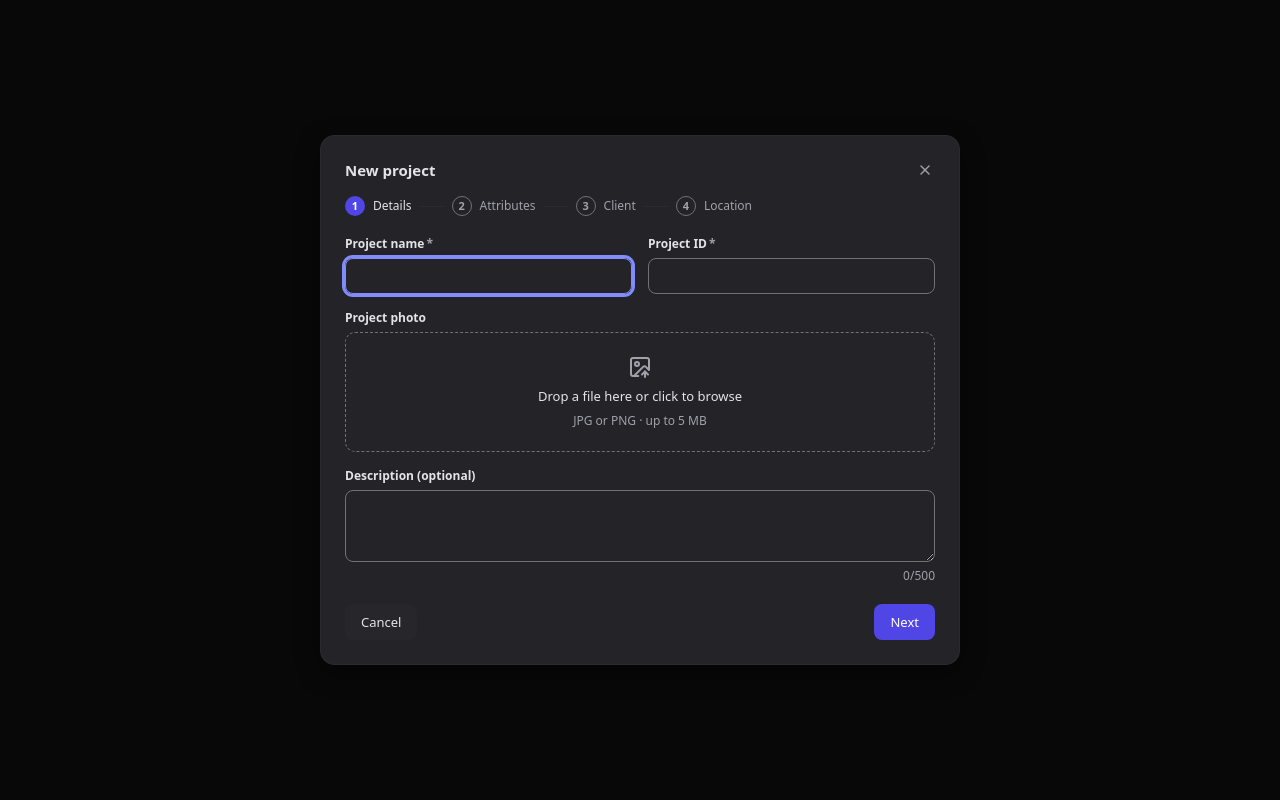
Test case: NewProjectWizard › returns to step 1 when the ID is taken at submit time
Check: the dialog "New project" is shown, box 320,135 -> 960,665
Type "  Pier 9  " into the field labelled "Project name".
click(488, 276); type("  Pier 9  ")  # box 345,258 -> 632,294
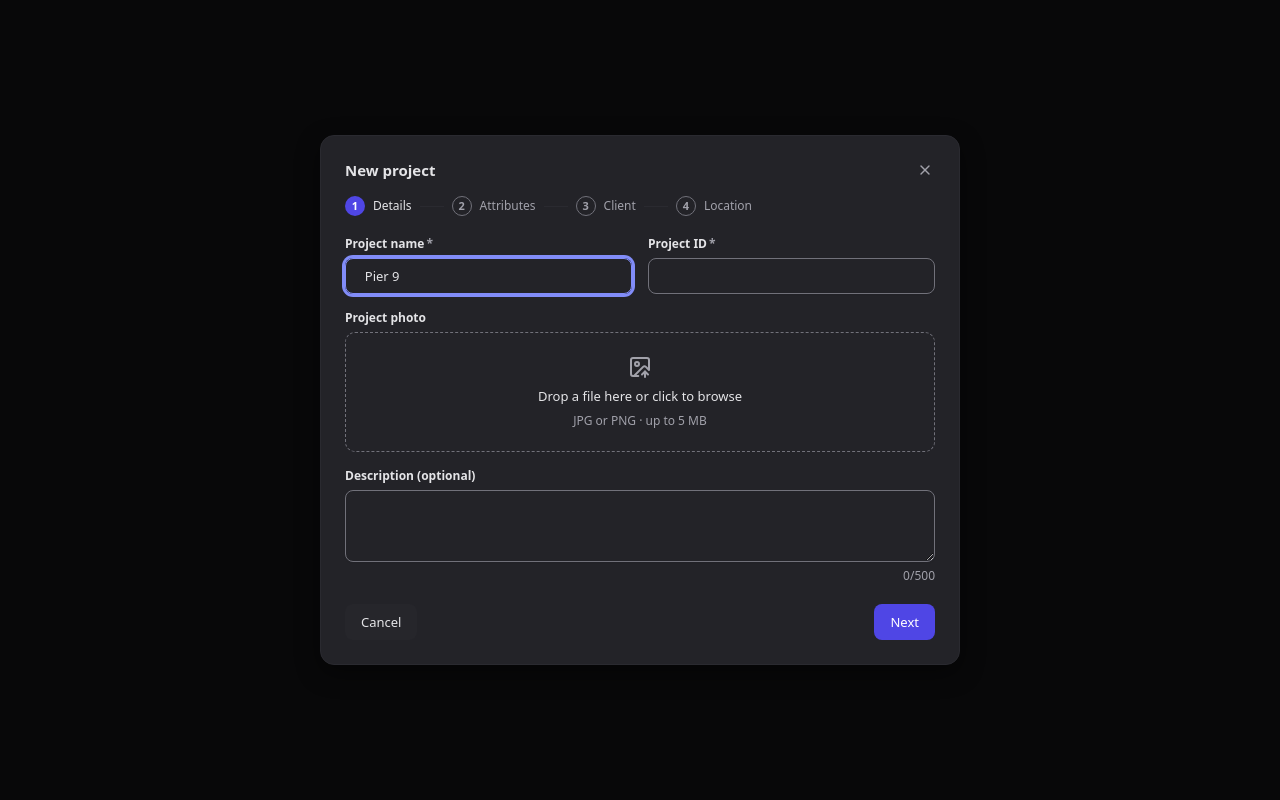
Type "001" into the field labelled "Project ID".
click(792, 276); type("001")  # box 648,258 -> 935,294
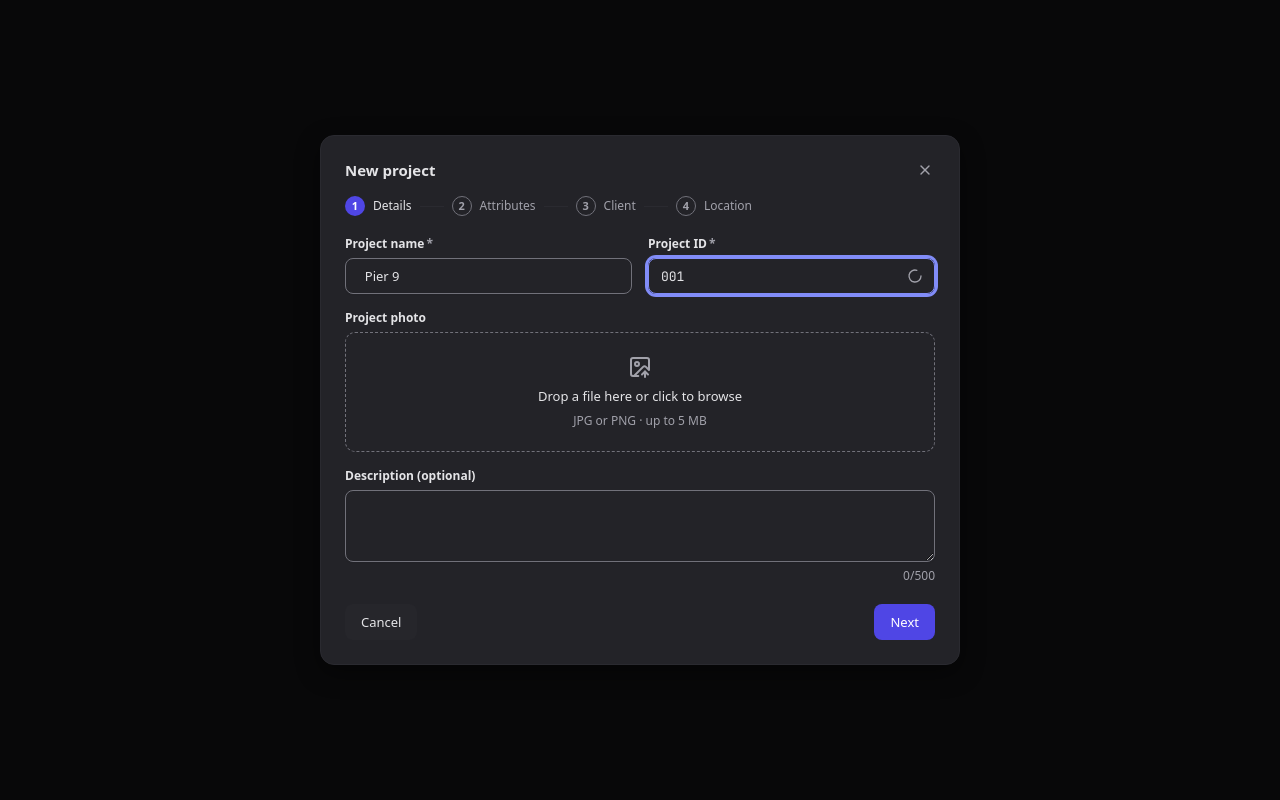
Click the button "Next".
click(905, 622)  # box 874,604 -> 935,640
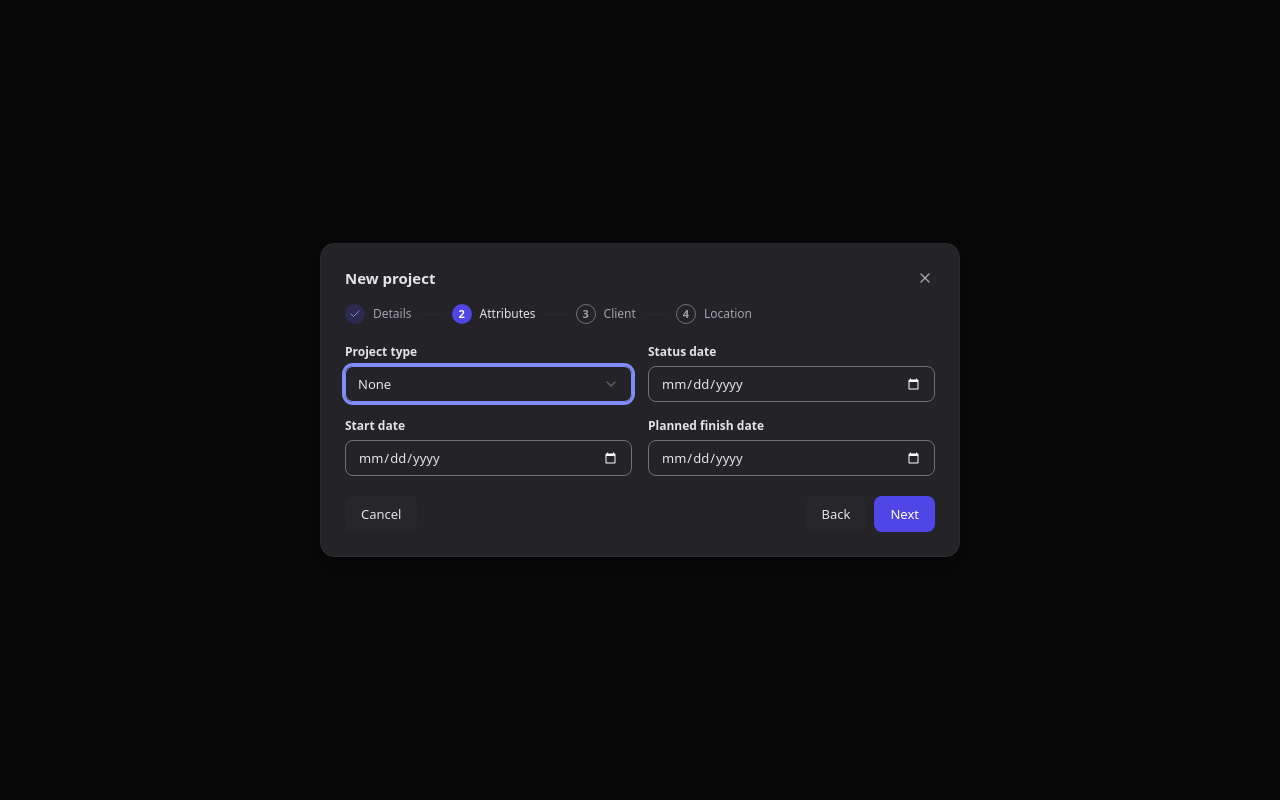
Click the button "Next".
click(905, 514)  # box 874,496 -> 935,532
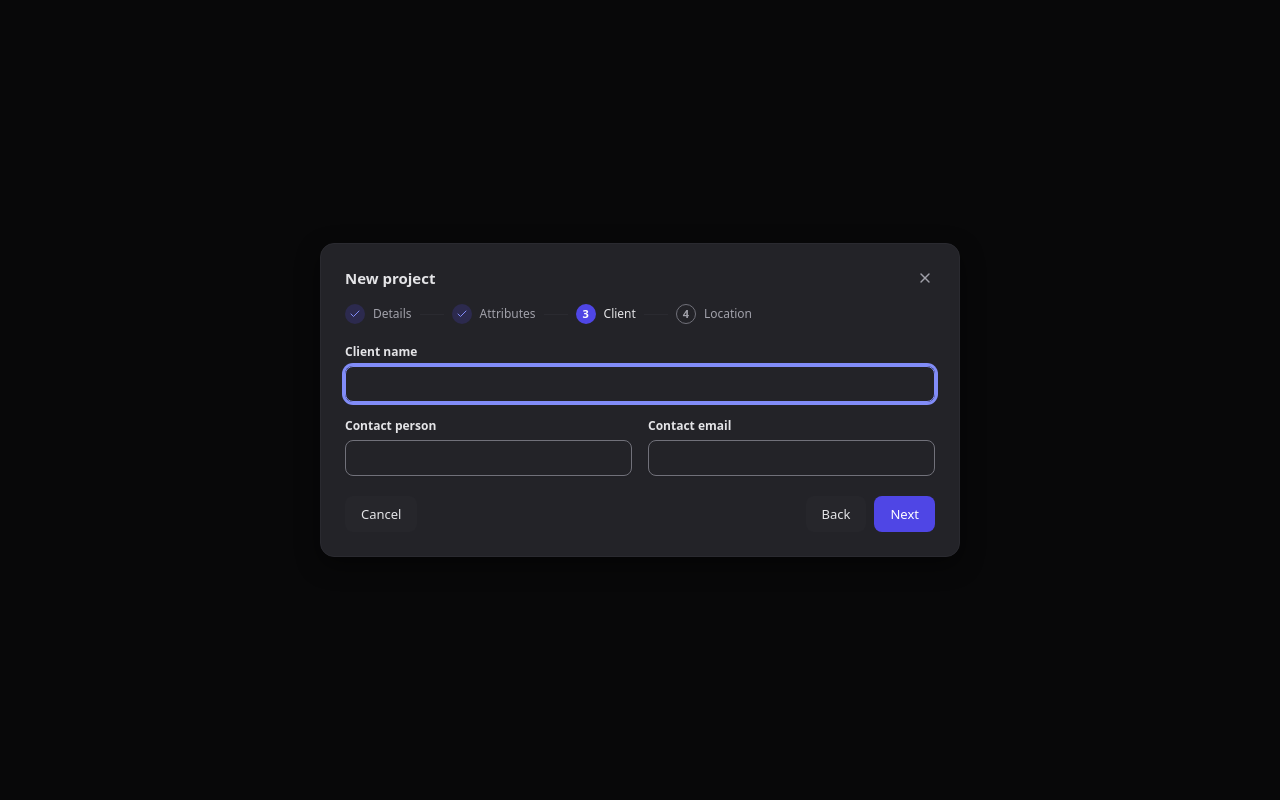
Click the button "Next".
click(905, 514)  # box 874,496 -> 935,532
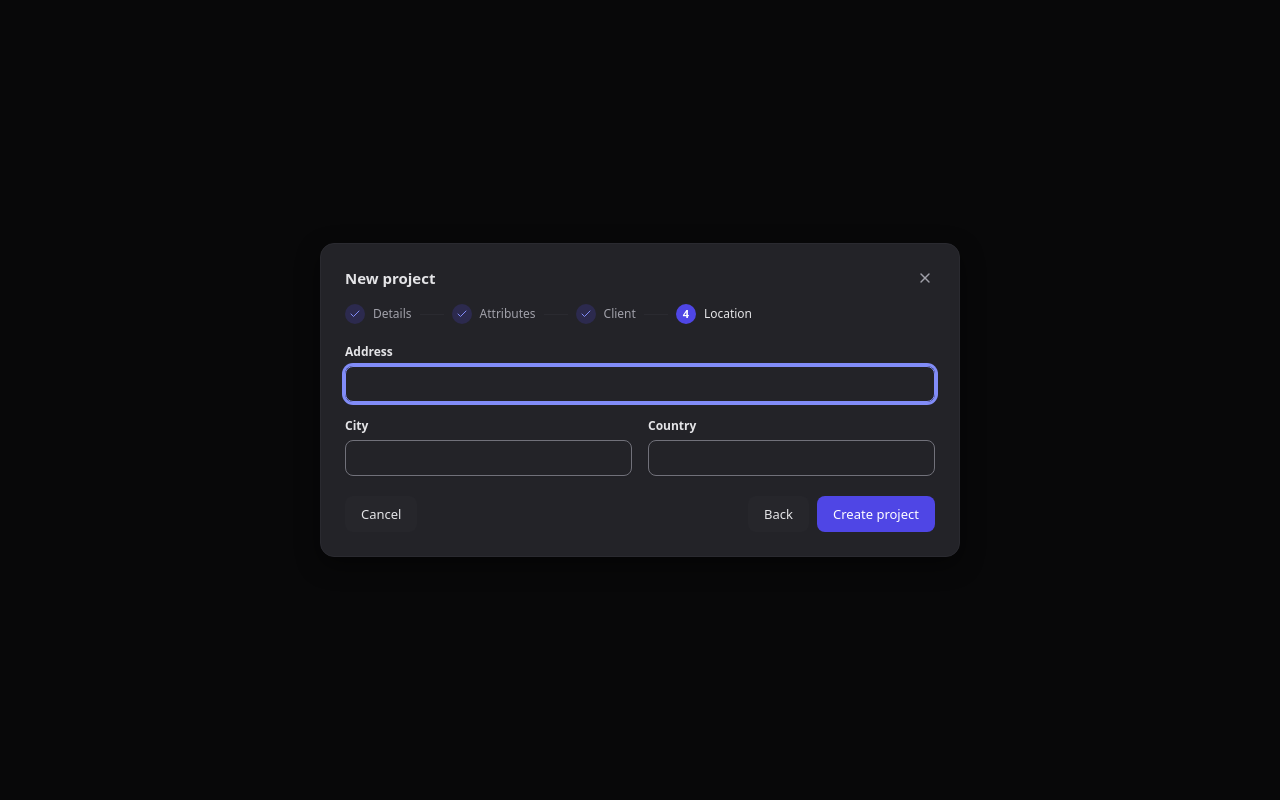
Click the button "Create project".
click(876, 514)  # box 817,496 -> 935,532
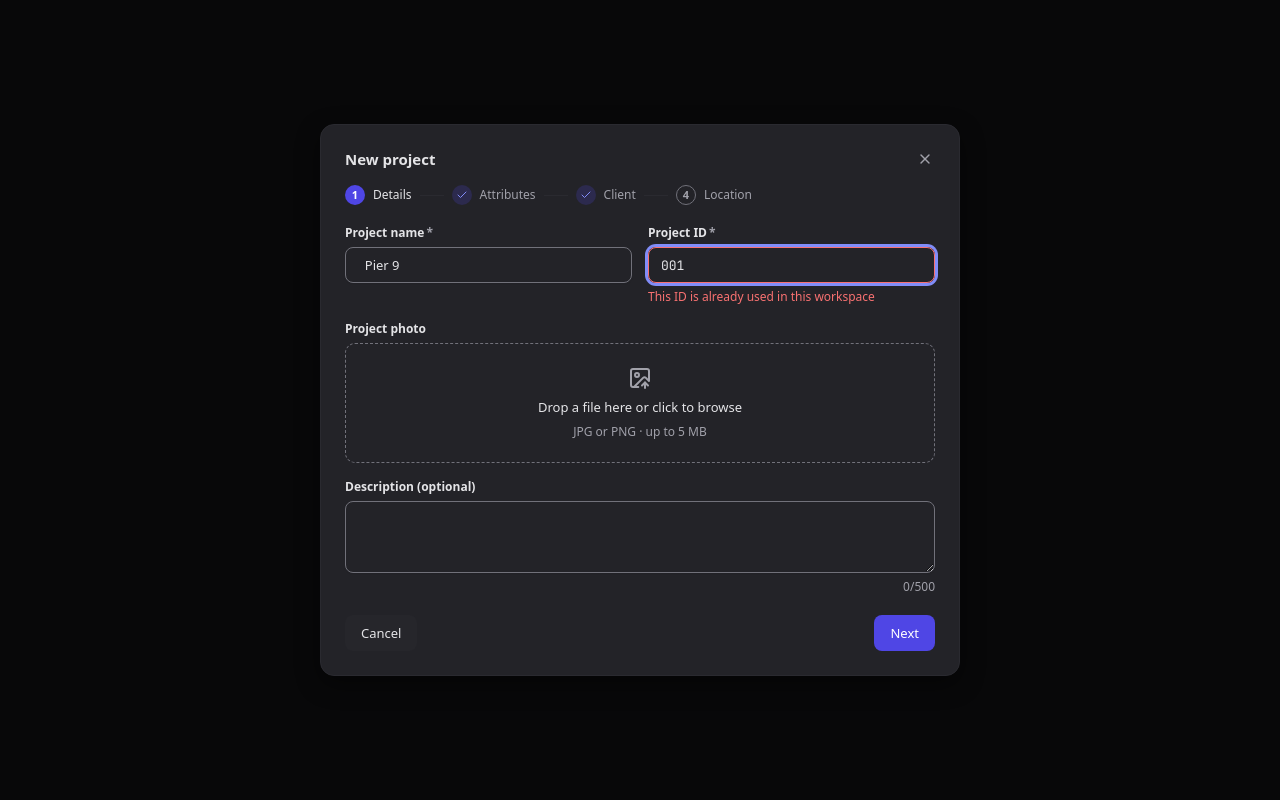
Check: the text "This ID is already used in this workspace" is shown, box 648,288 -> 875,305
